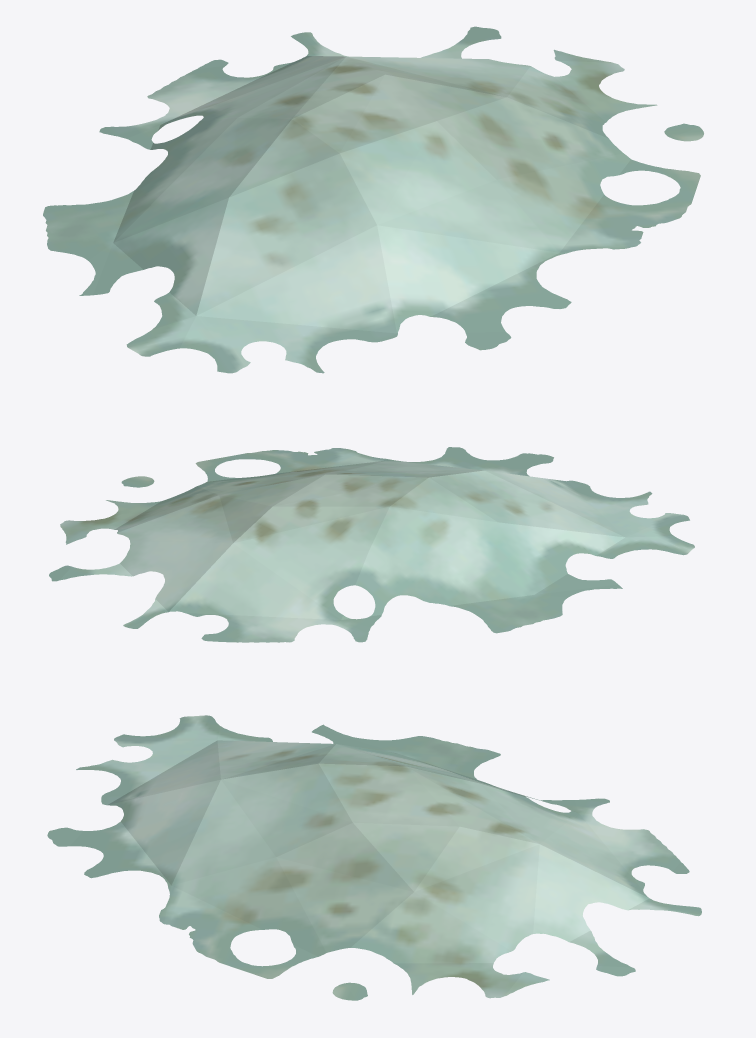
Rendered from small_hill01_grassblend.fbx.
The picture shows the model from 3 angles, top to bottom: view 1: azimuth 30°, elevation 25°; view 2: azimuth 150°, elevation 25°; view 3: azimuth 270°, elevation 25°; orthographic projection. The views are drawn at different scales.
Parts seen in each view (by area): view 1: obj0.093; view 2: obj0.093; view 3: obj0.093.
Boxes of the visible parts, left/top/right/bottom form: obj0.093: left=43, top=26, right=703, bottom=373; obj0.093: left=49, top=447, right=694, bottom=642; obj0.093: left=47, top=715, right=701, bottom=1000.
Size of the model in its own units: 12.66 by 1.36 by 12.01.
